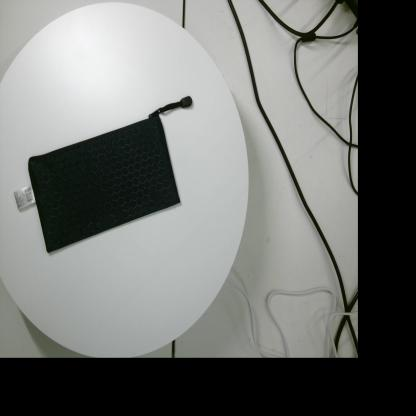Stationery: (14, 96, 192, 253)
